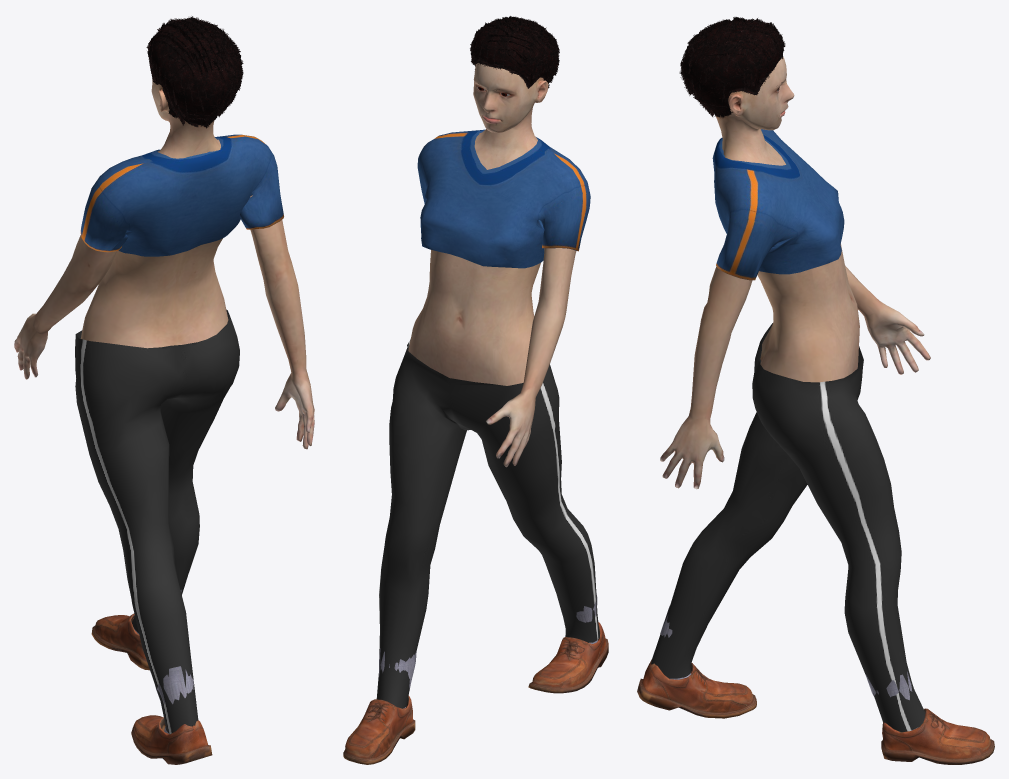
The model's file is walking_2.gltf.
The picture shows the model from 3 angles, left to right: view 1: azimuth 30°, elevation 25°; view 2: azimuth 150°, elevation 25°; view 3: azimuth 270°, elevation 25°; orthographic projection. The views are drawn at different scales.
Parts seen in each view (by area): view 1: walking; view 2: walking; view 3: walking.
Boxes of the visible parts, x1=… form: walking: x1=14, y1=16, x2=314, y2=764; walking: x1=343, y1=16, x2=608, y2=764; walking: x1=637, y1=17, x2=994, y2=764.
Size of the model in its own units: 0.4388 by 1.57 by 0.7134.
6 materials, 6 textured.
